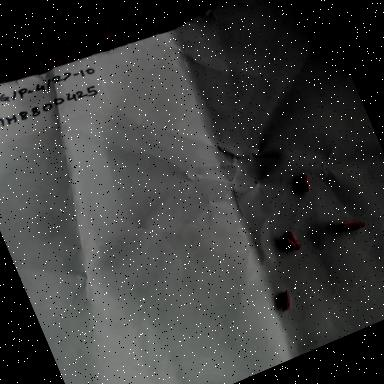pbw: (332, 208, 369, 241), (276, 224, 307, 258), (269, 286, 300, 318), (290, 167, 320, 198)
